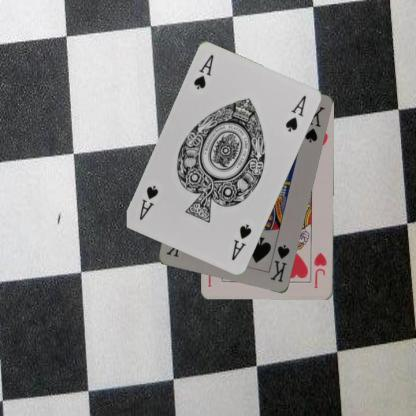As: (190, 52, 216, 91), (229, 222, 253, 262)
Jh: (312, 251, 328, 290)
Ks: (268, 242, 291, 284)
